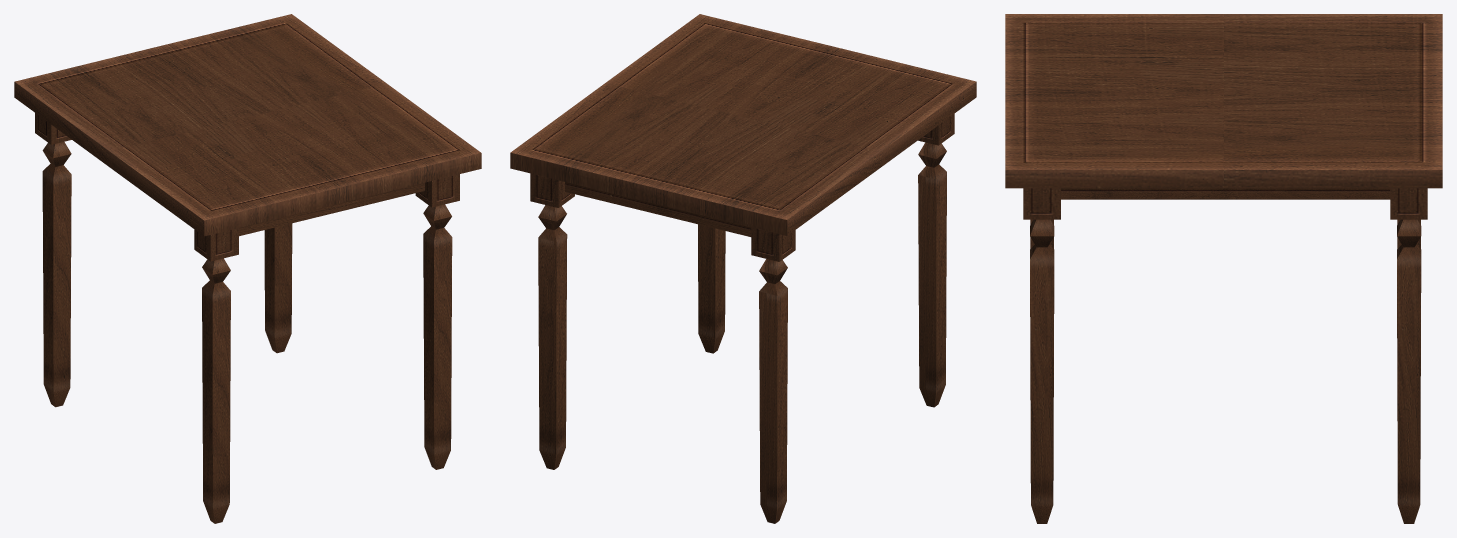
Rendered from diningtable_small.FBX.
3 renders of one model, left to right at view 1: azimuth 30°, elevation 25°; view 2: azimuth 150°, elevation 25°; view 3: azimuth 270°, elevation 25°, orthographic. The views are drawn at different scales.
Parts seen in each view (by area): view 1: diningtable_small; view 2: diningtable_small; view 3: diningtable_small.
Boxes of the visible parts, x1,y1,x2,y2 form: diningtable_small: (14,14,481,523); diningtable_small: (510,14,976,523); diningtable_small: (1005,14,1442,523).
Bounding box in the file's own units: 25.76 × 28.33 × 30.54.
